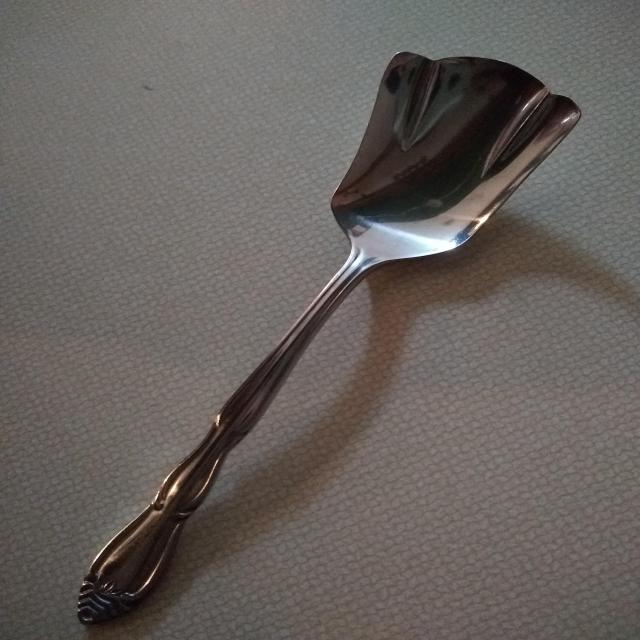spoon: (55, 44, 582, 634)
